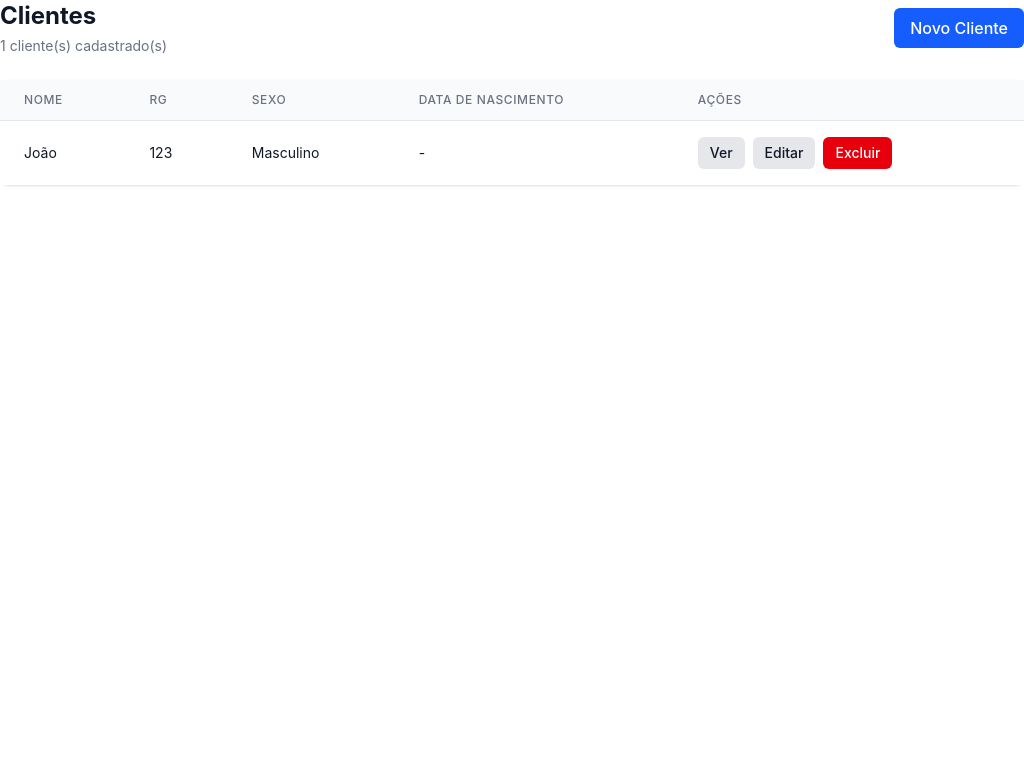
Test: ClientesListPage › closes delete modal when cancel is clicked
This screenshot has width=1024, height=768.
Click the button "Excluir": (858, 153) [823,137,892,169]
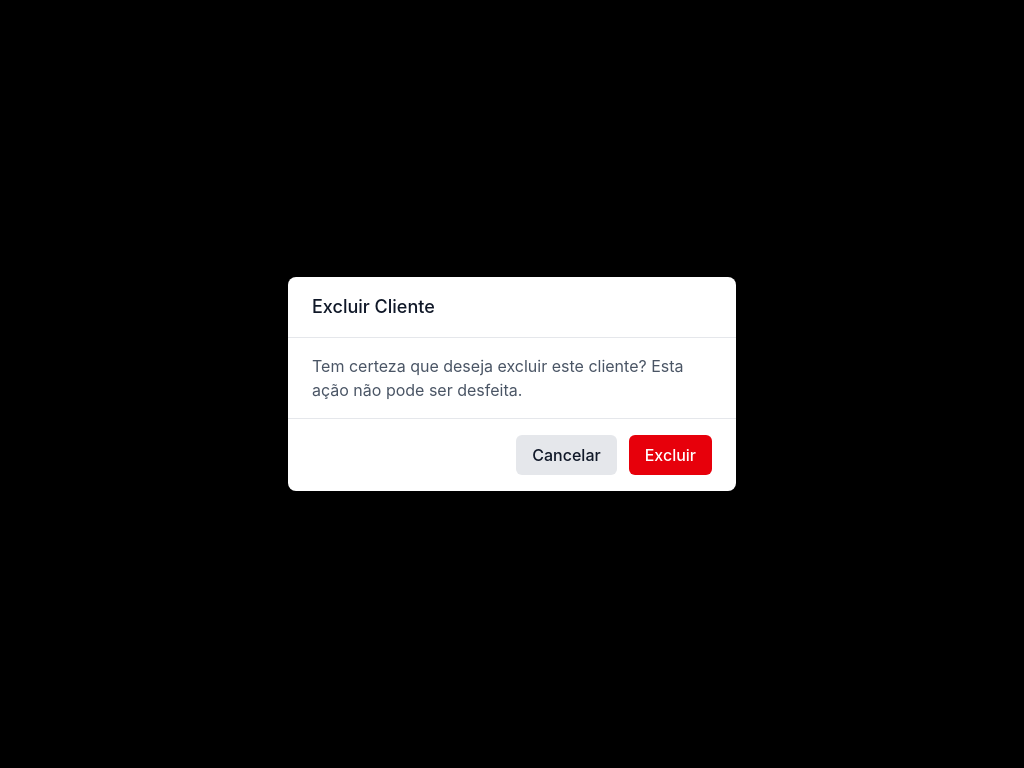
Click the button "Cancelar": (566, 455) [516,435,617,475]
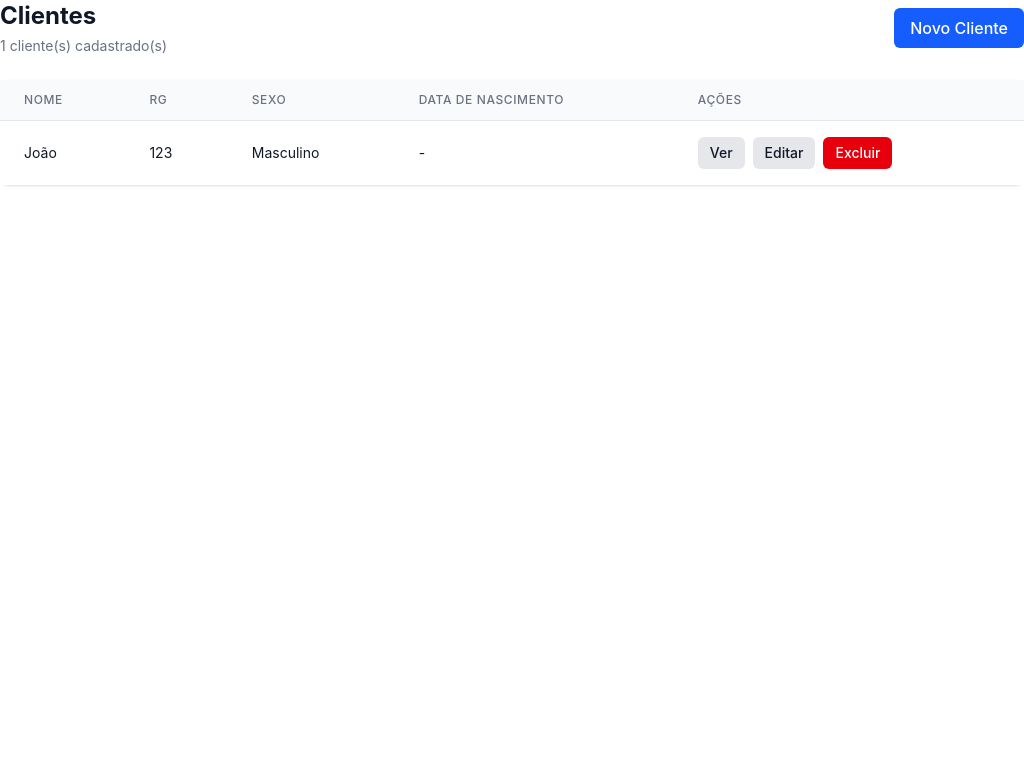
Check: the heading "Excluir Cliente" is gone
